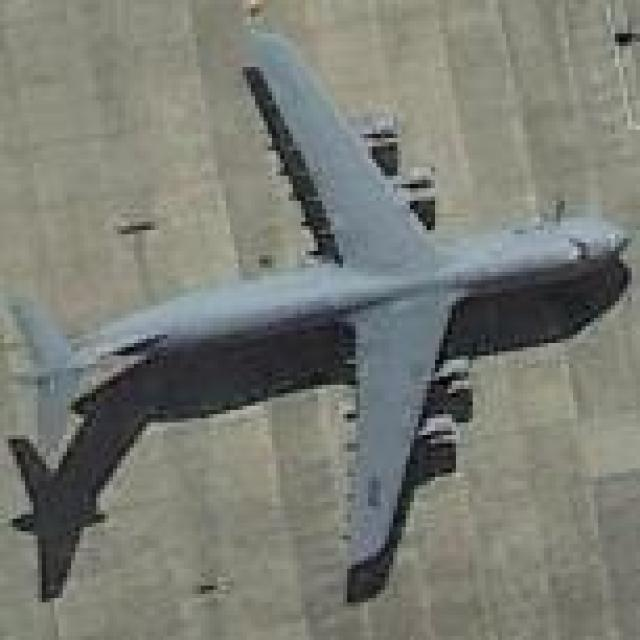C-5_TopDown: (6, 30, 635, 605)
